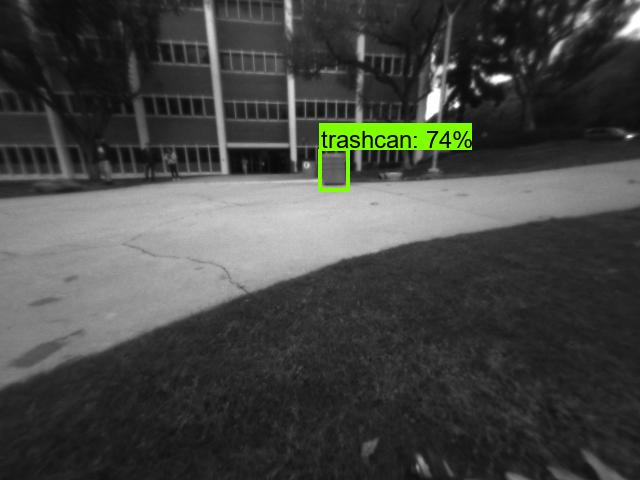trashcan: (321, 152, 349, 186), (303, 157, 316, 181)
